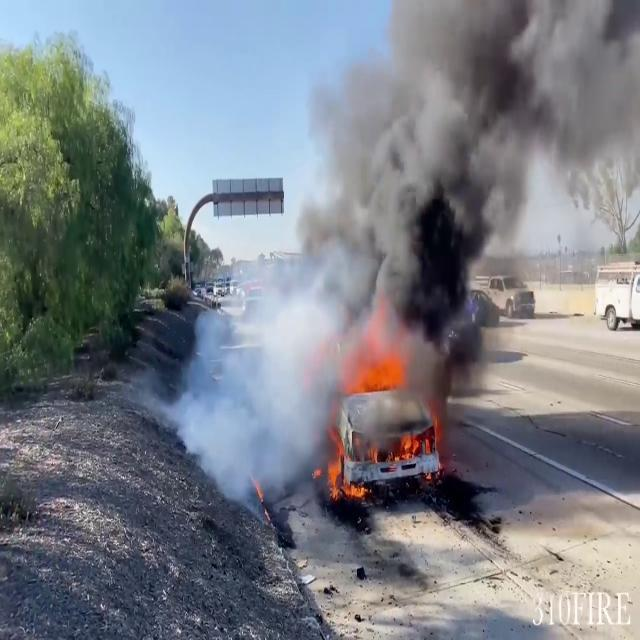Smoke: (325, 0, 640, 397), (170, 260, 422, 496)
